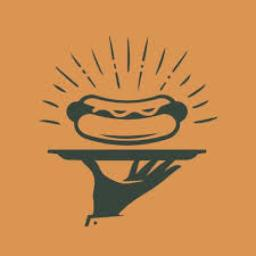hotdog: (64, 90, 191, 147)
